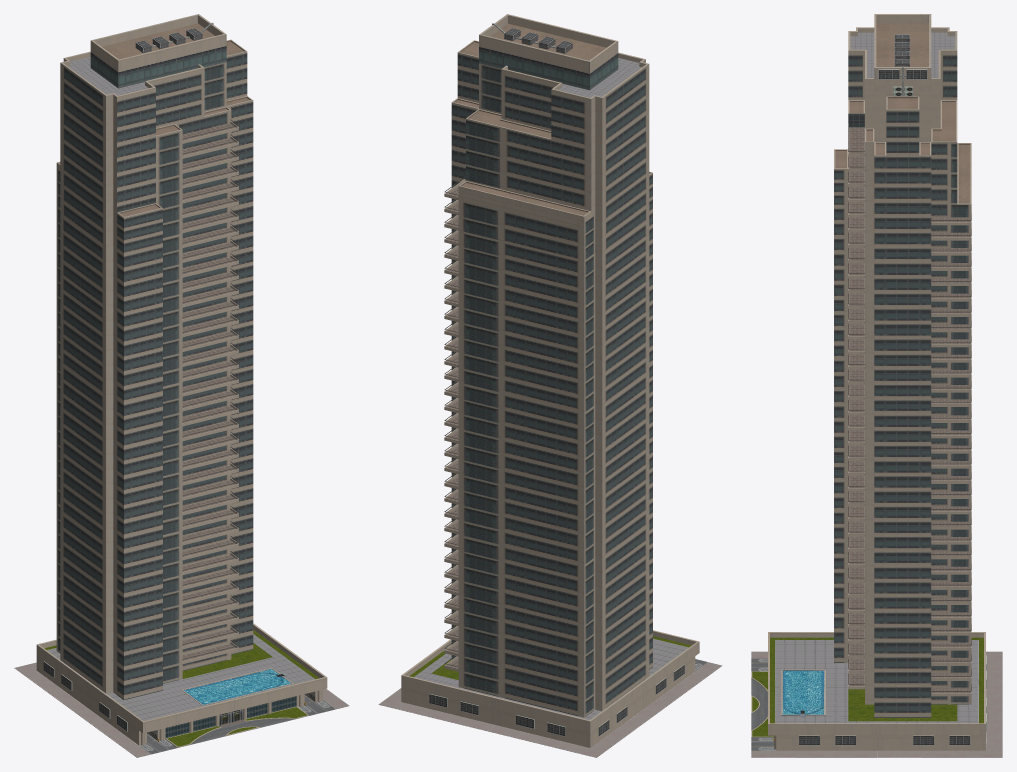
Rendered from predio.glb.
The picture shows the model from 3 angles, left to right: view 1: azimuth 30°, elevation 25°; view 2: azimuth 150°, elevation 25°; view 3: azimuth 270°, elevation 25°; orthographic projection. The views are drawn at different scales.
Visible parts, largest first — view 1: hirise2; view 2: hirise2; view 3: hirise2.
Part boxes in pixels (x1,y1,x2,y2): hirise2: (14,14,349,757); hirise2: (378,14,722,757); hirise2: (751,14,1002,757).
Bounding box in the file's own units: 5.58 × 16.14 × 5.58.
1 material, 1 textured.
